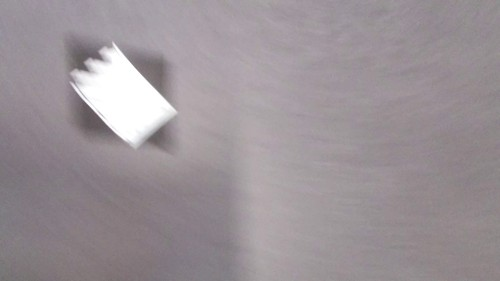misgoods: (60, 36, 184, 151)
